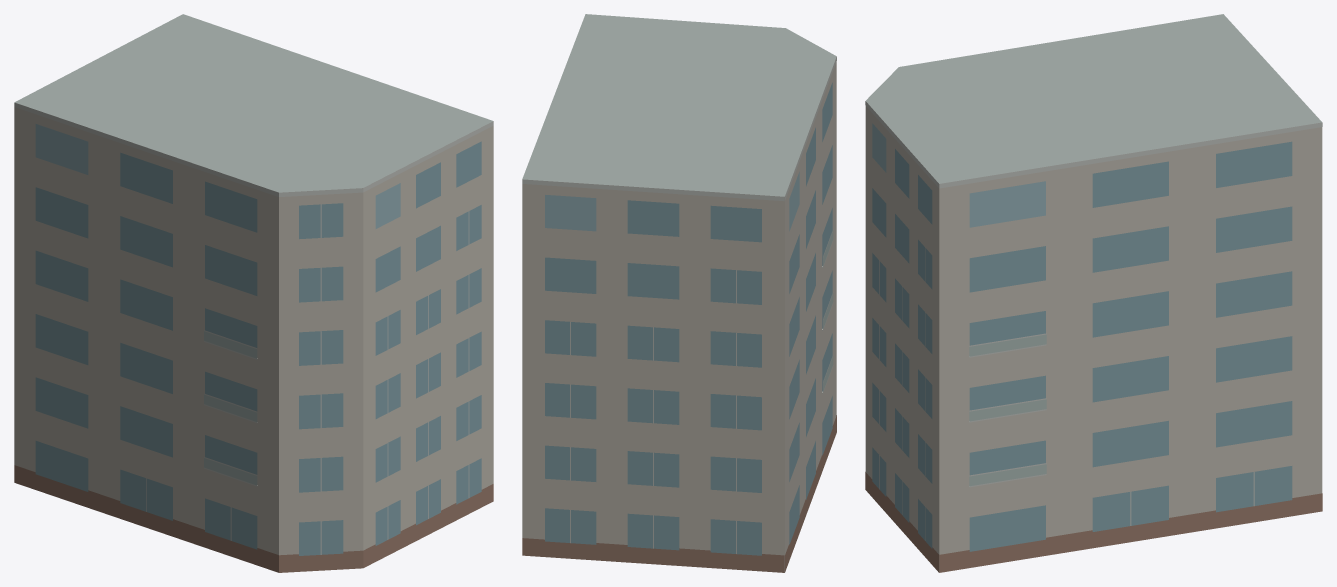
Rendered from survey-upis-32856917.glb.
3 views of the same model, side by side, from view 1: azimuth 30°, elevation 25°; view 2: azimuth 150°, elevation 25°; view 3: azimuth 270°, elevation 25° (orthographic). The views are drawn at different scales.
Parts seen in each view (by area): view 1: survey-upis-32856917.tmp; view 2: survey-upis-32856917.tmp; view 3: survey-upis-32856917.tmp.
Boxes of the visible parts, left/top/right/bottom form: survey-upis-32856917.tmp: left=14, top=14, right=493, bottom=572; survey-upis-32856917.tmp: left=522, top=14, right=836, bottom=572; survey-upis-32856917.tmp: left=865, top=14, right=1322, bottom=572.
Bounding box in the file's own units: 19.36 × 20.65 × 22.
